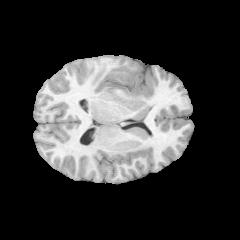glioma: (107, 64, 151, 101)
